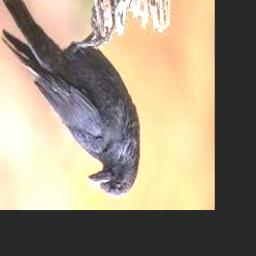Crow: (0, 0, 139, 197)
